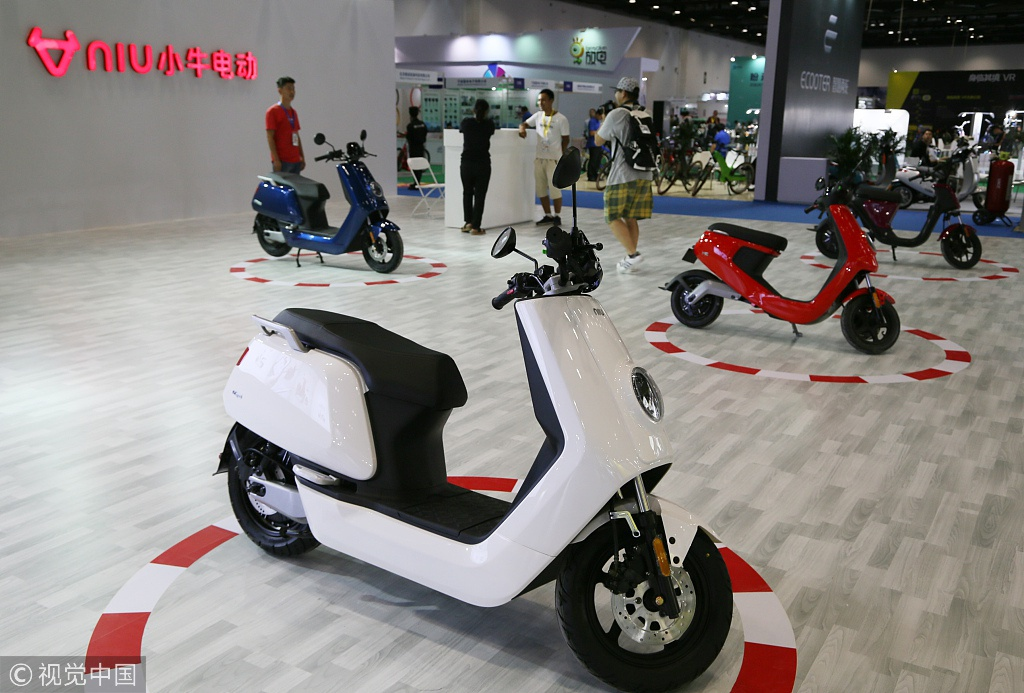non-vehicle: (213, 274, 739, 684), (662, 190, 912, 354), (247, 136, 402, 272), (809, 164, 982, 273)
